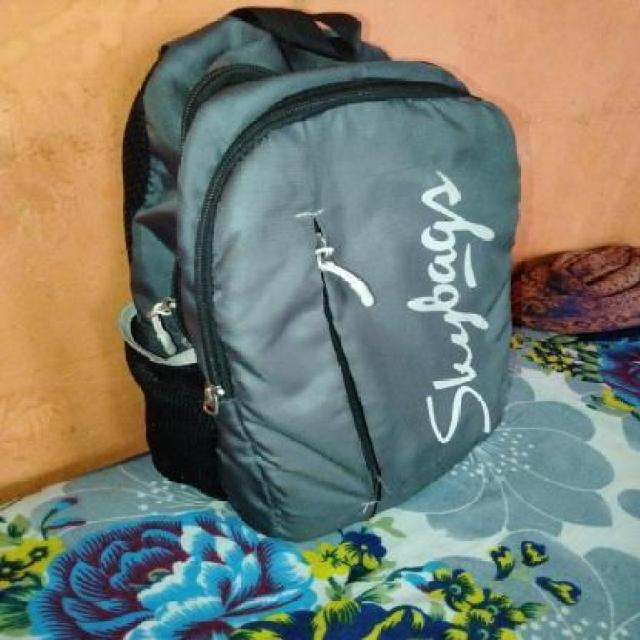backpack: (112, 1, 525, 548)
